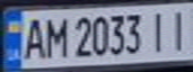0: (90, 11, 112, 57)
2: (69, 12, 93, 59)
3: (124, 10, 148, 55), (109, 11, 127, 56)
A: (18, 14, 48, 61)
I: (163, 6, 193, 53), (145, 7, 172, 53)
M: (39, 13, 69, 60)
